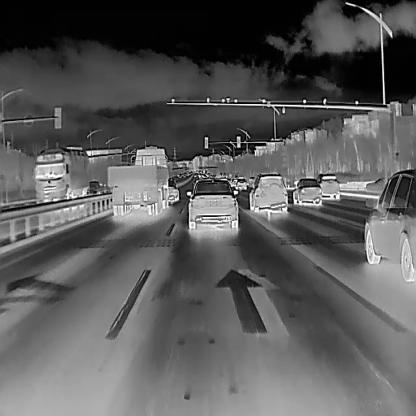car: (363, 168, 415, 283), (185, 179, 239, 233), (246, 173, 288, 215), (291, 176, 323, 206), (315, 172, 340, 200), (165, 176, 179, 203), (228, 176, 247, 190), (86, 178, 100, 192), (229, 175, 238, 186)
truck: (106, 147, 168, 215), (31, 145, 89, 205)
